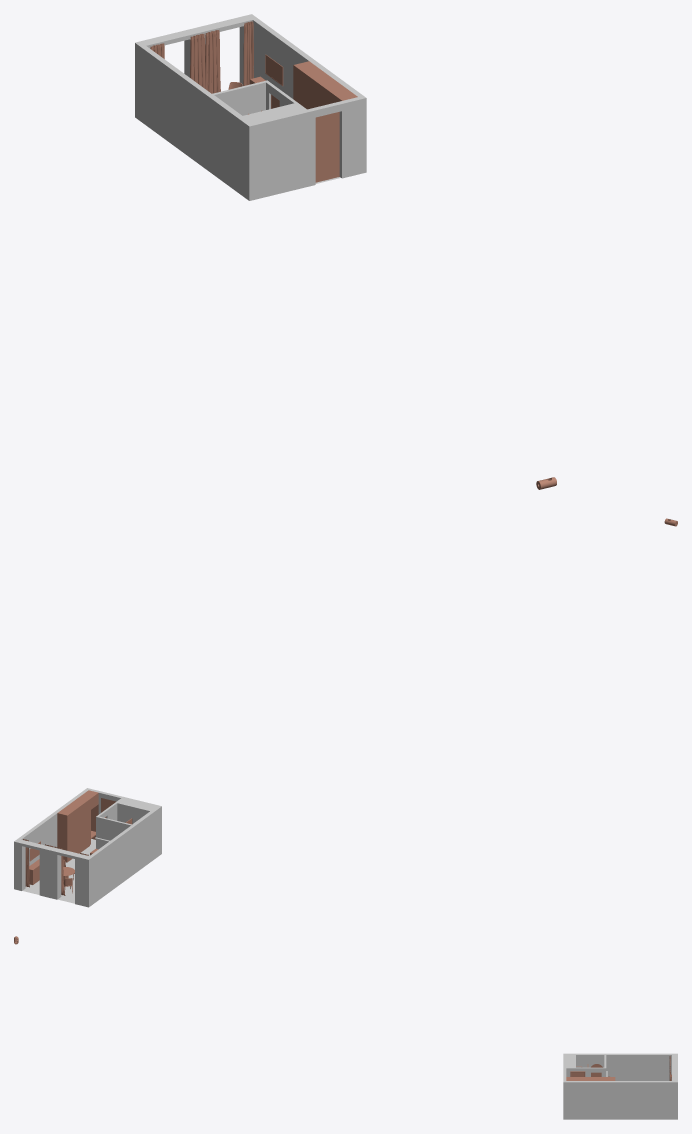
The model's file is f_city.glb.
3 views of the same model, one above another, from view 1: azimuth 30°, elevation 25°; view 2: azimuth 150°, elevation 25°; view 3: azimuth 270°, elevation 25° (orthographic). The views are drawn at different scales.
Visible parts, largest first — view 1: Default 150:150:150 (×3), *2 (×2); view 2: Default 150:150:150 (×2), Plane; view 3: Default 150:150:150.
Boxes of the visible parts, x1,y1,x2,y2 form: Default 150:150:150 (×3): (135,14,366,200); *2 (×2): (190,30,220,93); Default 150:150:150 (×2): (14,788,161,907); Plane: (22,839,95,903); Default 150:150:150: (563,1053,677,1119).
Bounding box in the file's own units: 14.21 × 6.63 × 43.56.
